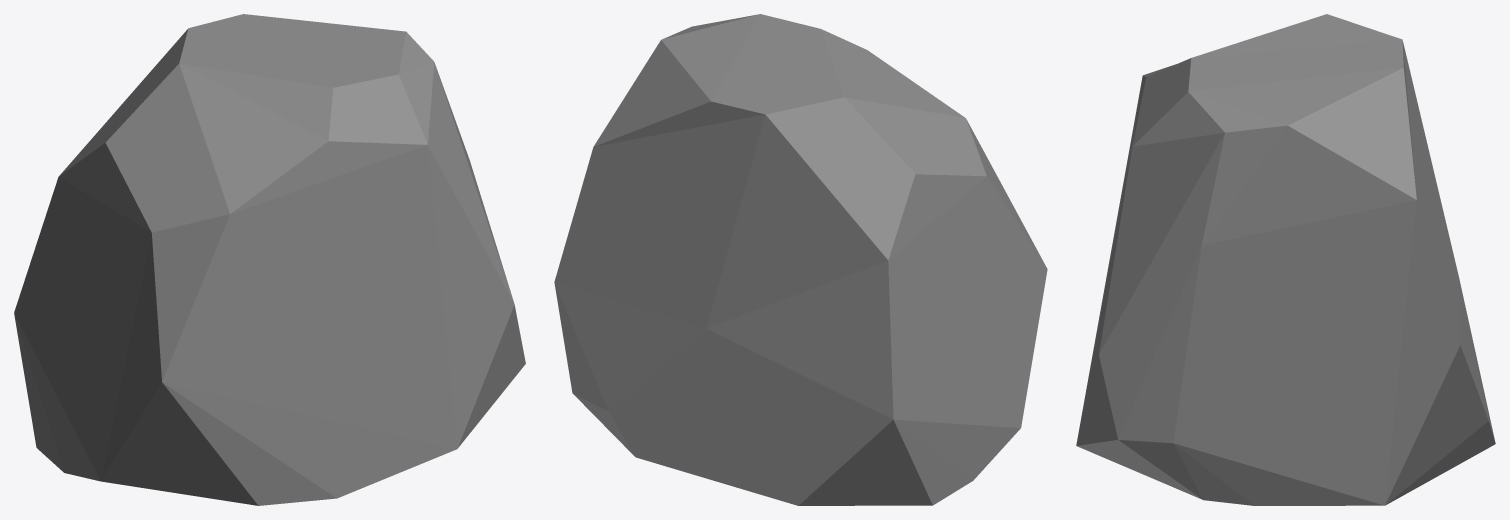
The model's file is Stone_2.fbx.
The picture shows the model from 3 angles, left to right: view 1: azimuth 30°, elevation 25°; view 2: azimuth 150°, elevation 25°; view 3: azimuth 270°, elevation 25°; orthographic projection. The views are drawn at different scales.
Parts seen in each view (by area): view 1: Stone_2; view 2: Stone_2; view 3: Stone_2.
Boxes of the visible parts, x1,y1,x2,y2 form: Stone_2: (14, 14, 525, 505); Stone_2: (554, 14, 1047, 505); Stone_2: (1076, 14, 1495, 505).
Bounding box in the file's own units: 0.8767 × 0.7948 × 0.8207.
